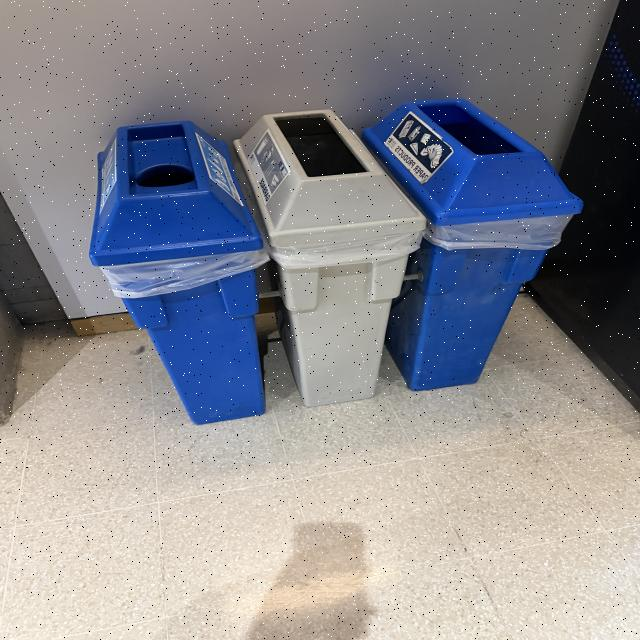Dustbin: (84, 96, 583, 427)
